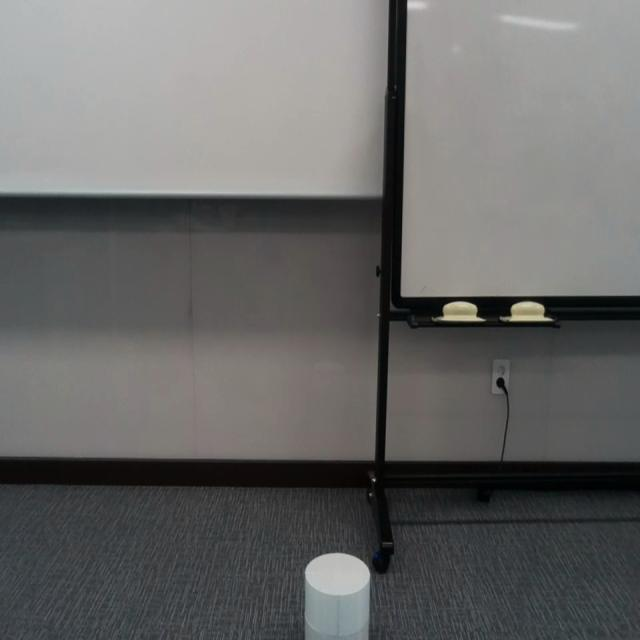cylinder: (304, 552, 371, 639)
